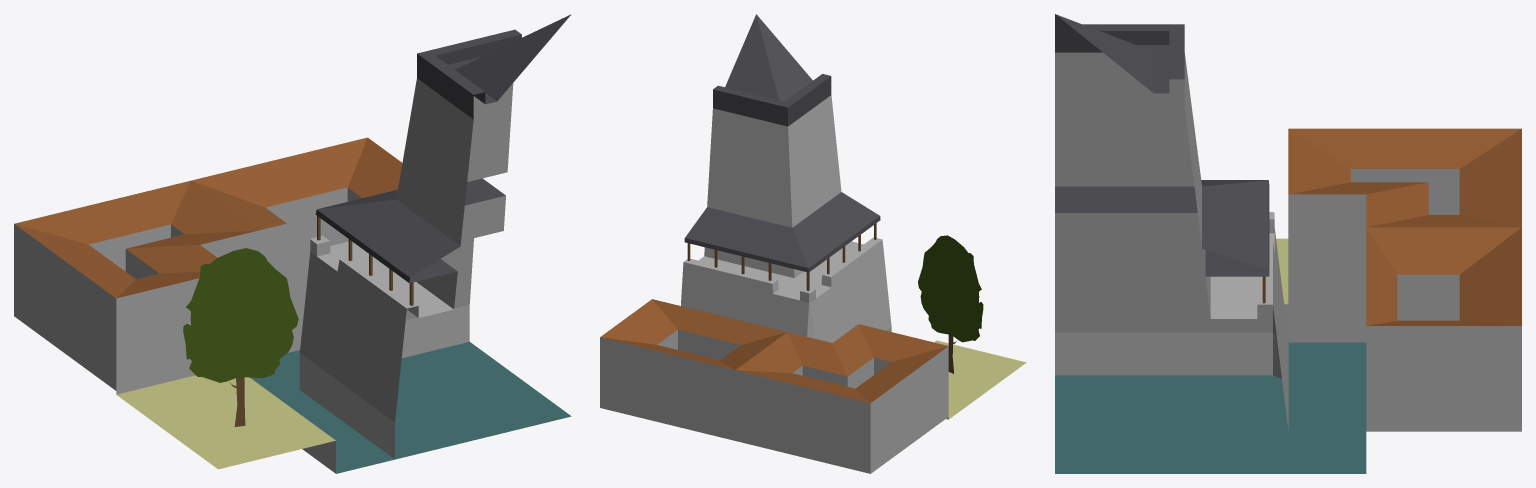
The picture shows the model from 3 angles, left to right: view 1: azimuth 30°, elevation 25°; view 2: azimuth 150°, elevation 25°; view 3: azimuth 270°, elevation 25°; orthographic projection. The views are drawn at different scales.
Visible parts, largest first — view 1: 22cw; view 2: 22cw; view 3: 22cw.
Boxes of the visible parts, x1,y1,x2,y2 form: 22cw: [14, 14, 571, 473]; 22cw: [600, 14, 1026, 473]; 22cw: [1055, 14, 1521, 473].
Size of the model in its own units: 30 by 32.63 by 30.
